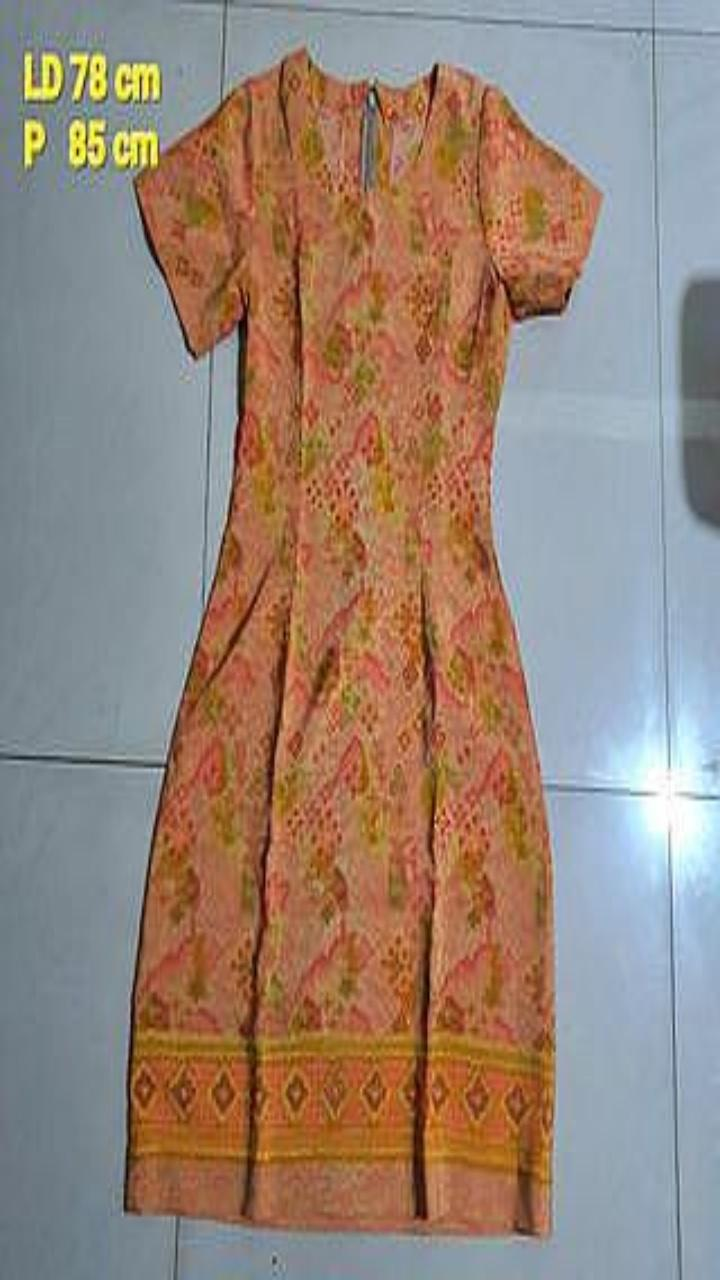Dresses: (125, 46, 601, 1234)
